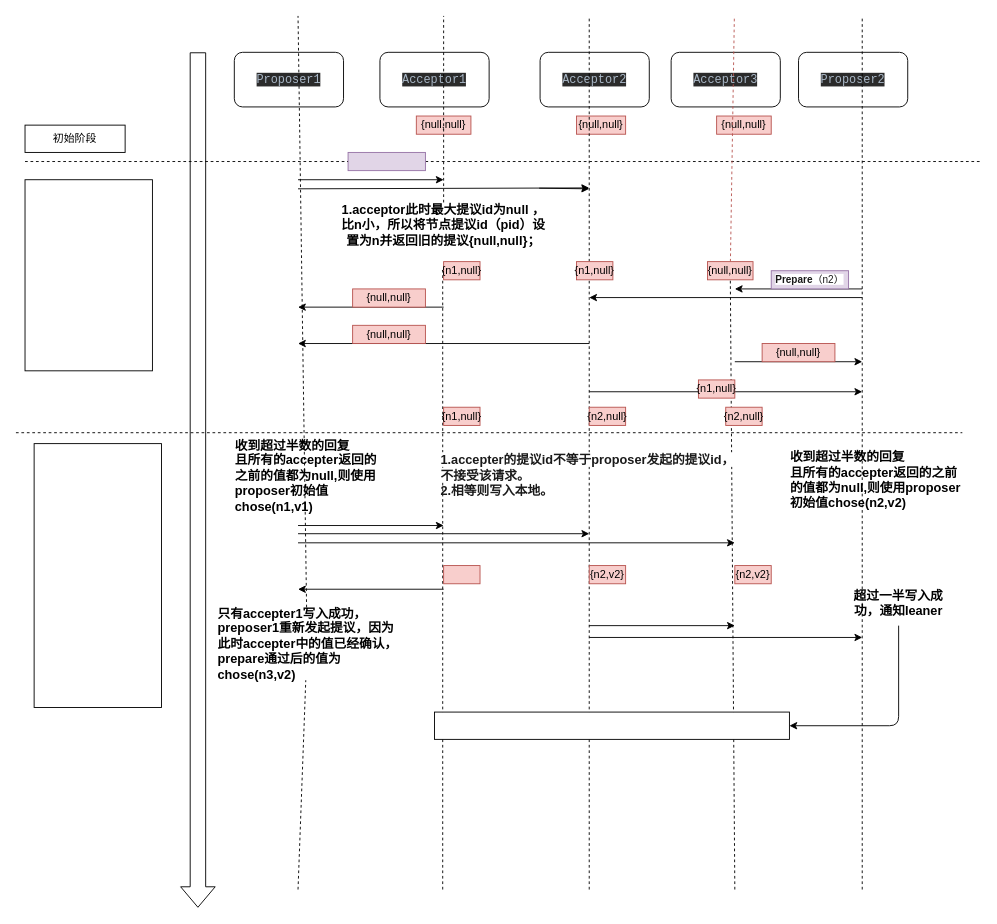
This 997x924 diagram has some shape labels left out. The centre of each missing label's shape, as x and y in pixels:
"Prepare （n1）" belongs at (386,161).
"Proposer 广播Prepare（n）请求" belongs at (88,275).
"{n1,v1}" belongs at (461,574).
"并将接收的值通知leaner" belongs at (611,725).
"提交协议" belongs at (97,575).
